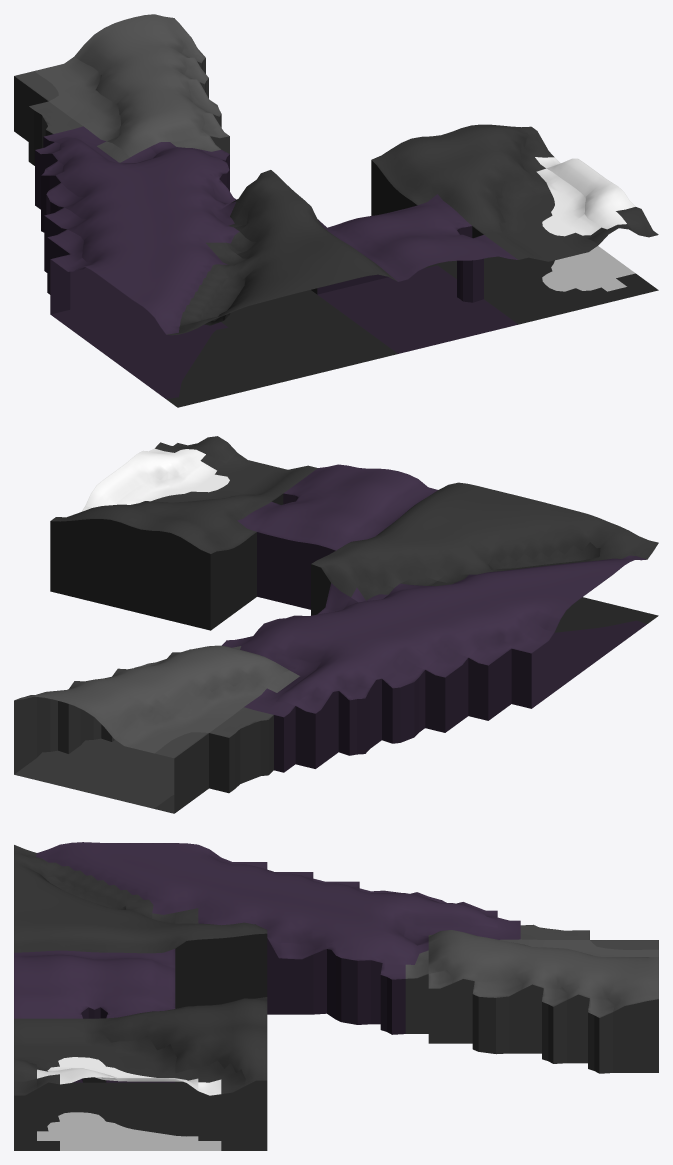
The model's file is delbld-hull-567.glb.
3 renders of one model, top to bottom at view 1: azimuth 30°, elevation 25°; view 2: azimuth 150°, elevation 25°; view 3: azimuth 270°, elevation 25°, orthographic.
Parts seen in each view (by area): view 1: delbld-hull-567; view 2: delbld-hull-567; view 3: delbld-hull-567.
Boxes of the visible parts, box(x1,y1,x2,y2) form: delbld-hull-567: box(14, 14, 658, 407); delbld-hull-567: box(14, 436, 658, 813); delbld-hull-567: box(14, 842, 658, 1150).
Size of the model in its own units: 2 by 0.3673 by 2.33.
Materials: 6 (6 with a texture image).
